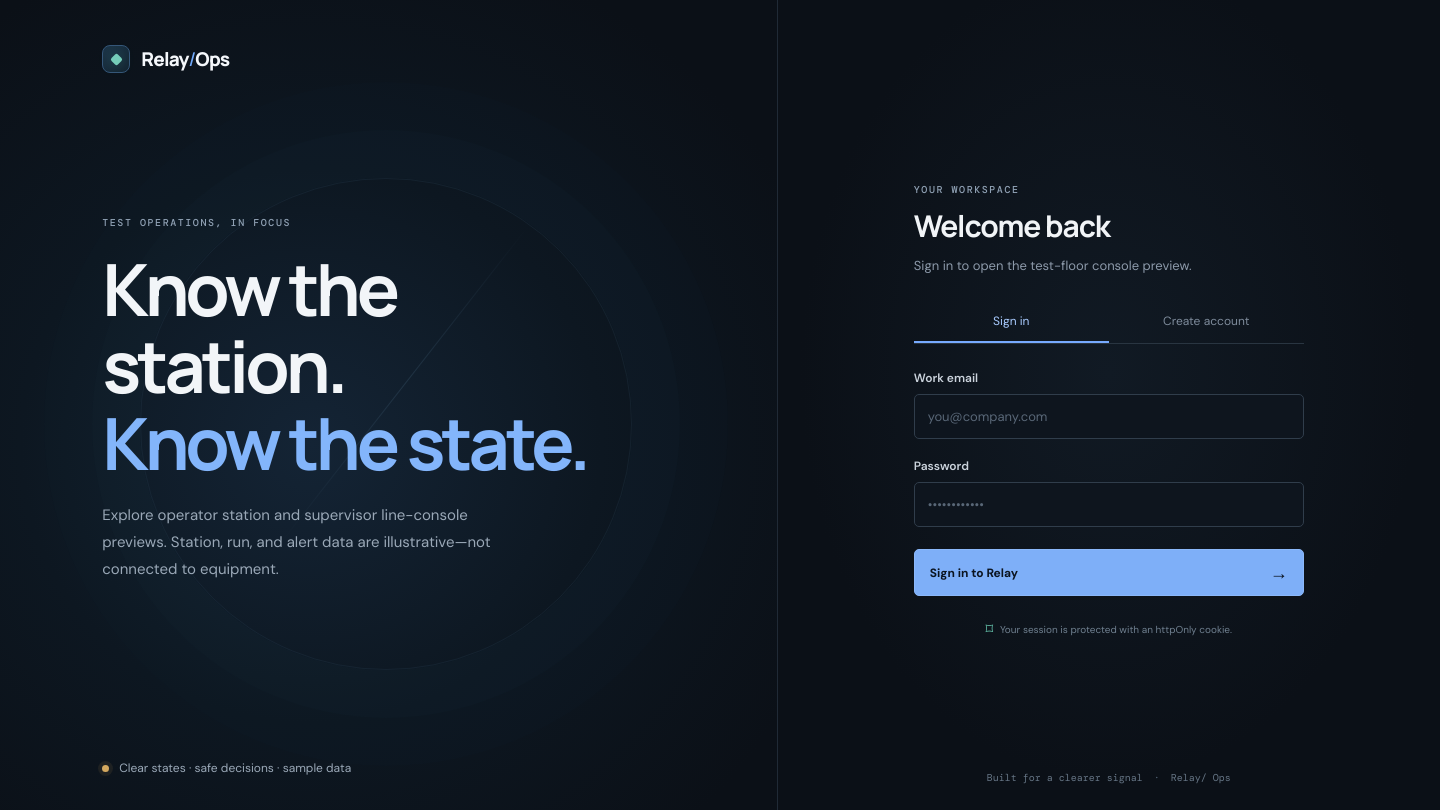
registration authenticates and displays the sample operator console and API health
Click the tab "Create account": (1206, 322) x1=1109 y1=301 x2=1304 y2=343
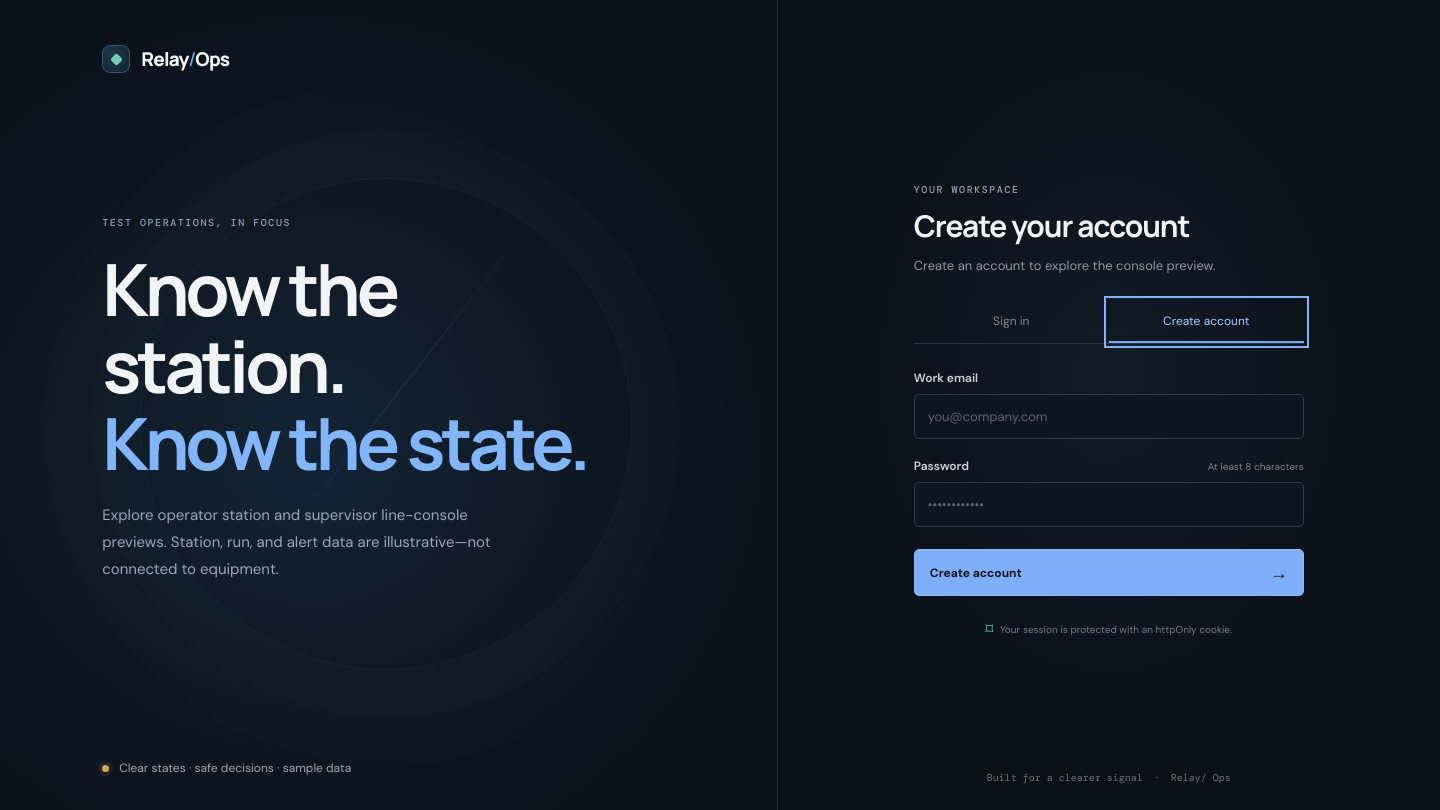
In the field labelled "Work email": (1109, 416) x1=914 y1=394 x2=1304 y2=439, type "ops@example.com"
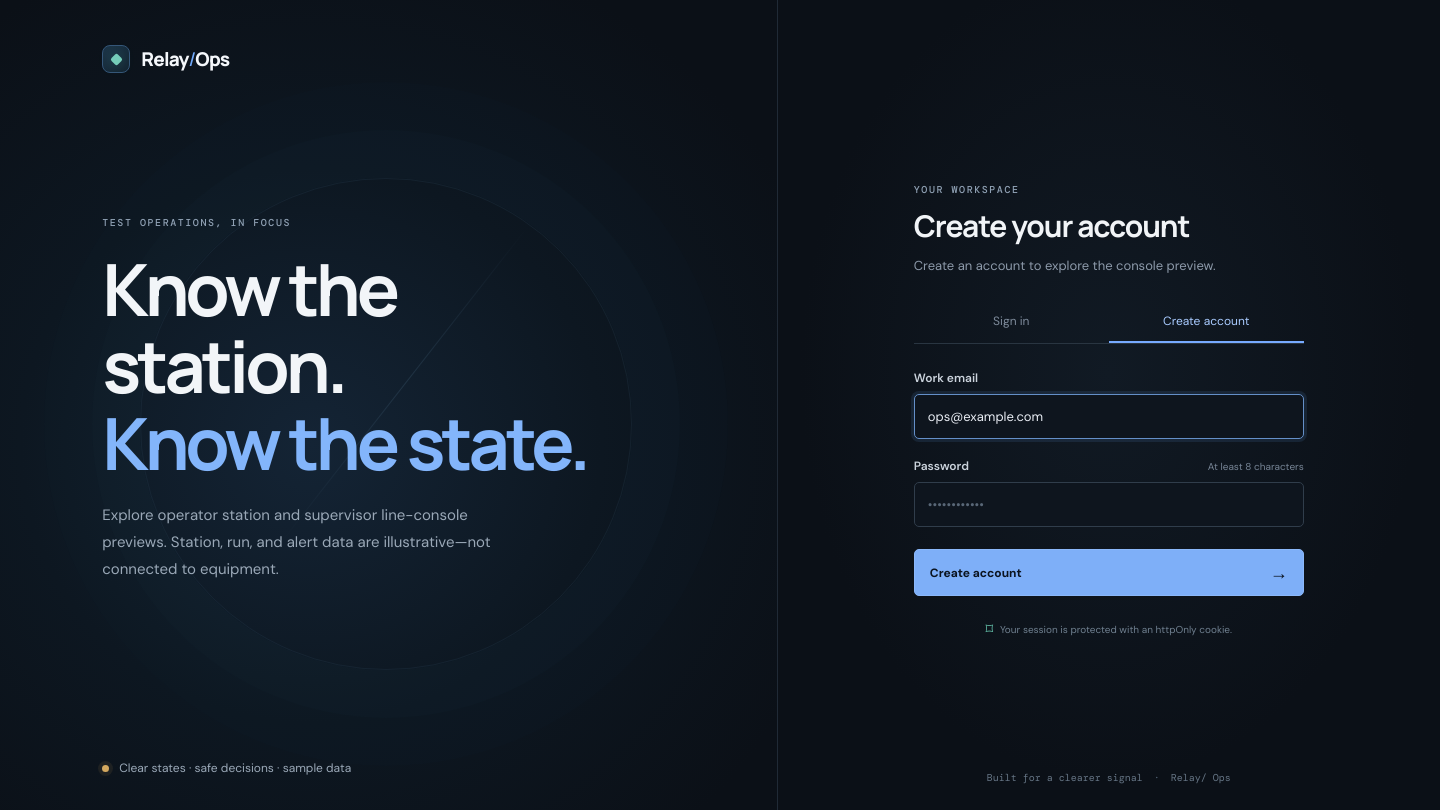
In the password field labelled "Password": (1109, 504) x1=914 y1=482 x2=1304 y2=527, type "safe-password"
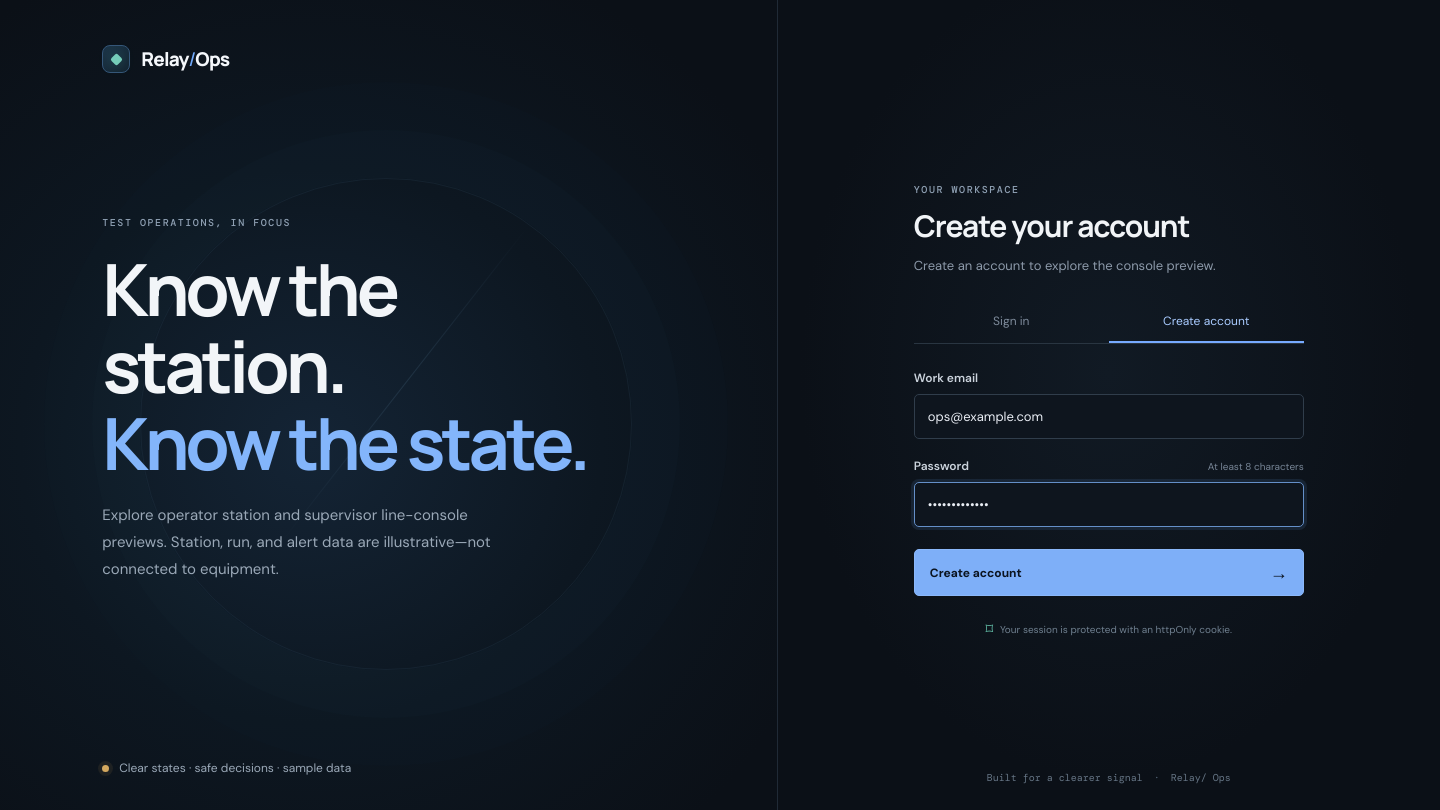
Click the button "Create account →": (976, 572) x1=914 y1=549 x2=1304 y2=596
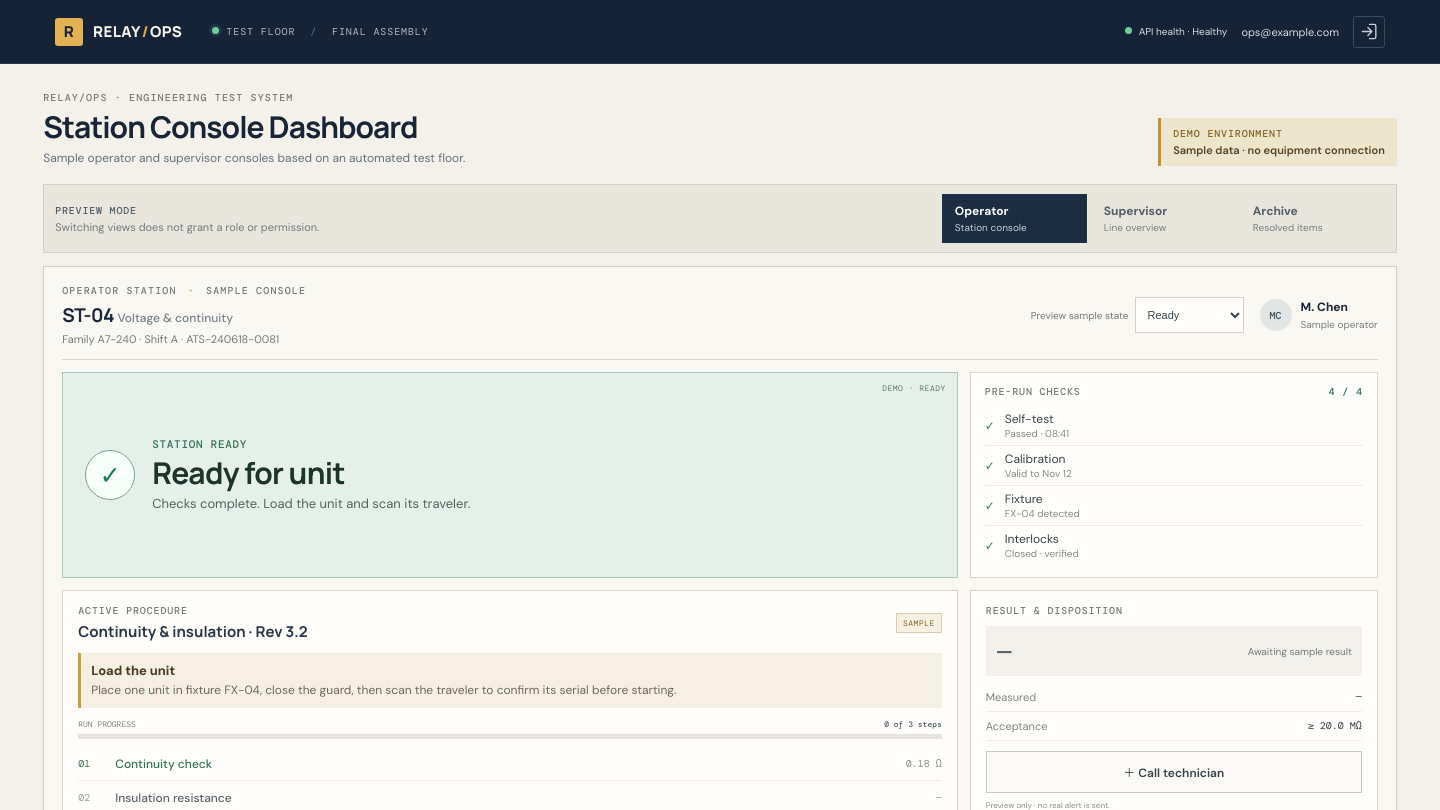
Check: the heading "Station Console Dashboard" is shown, box x1=43 y1=110 x2=466 y2=143
Check: the heading "ST-04 Voltage & continuity" is shown, box x1=62 y1=302 x2=233 y2=328
Check: the text "Sample data · no equipment connection" is shown, box x1=1173 y1=143 x2=1385 y2=157
